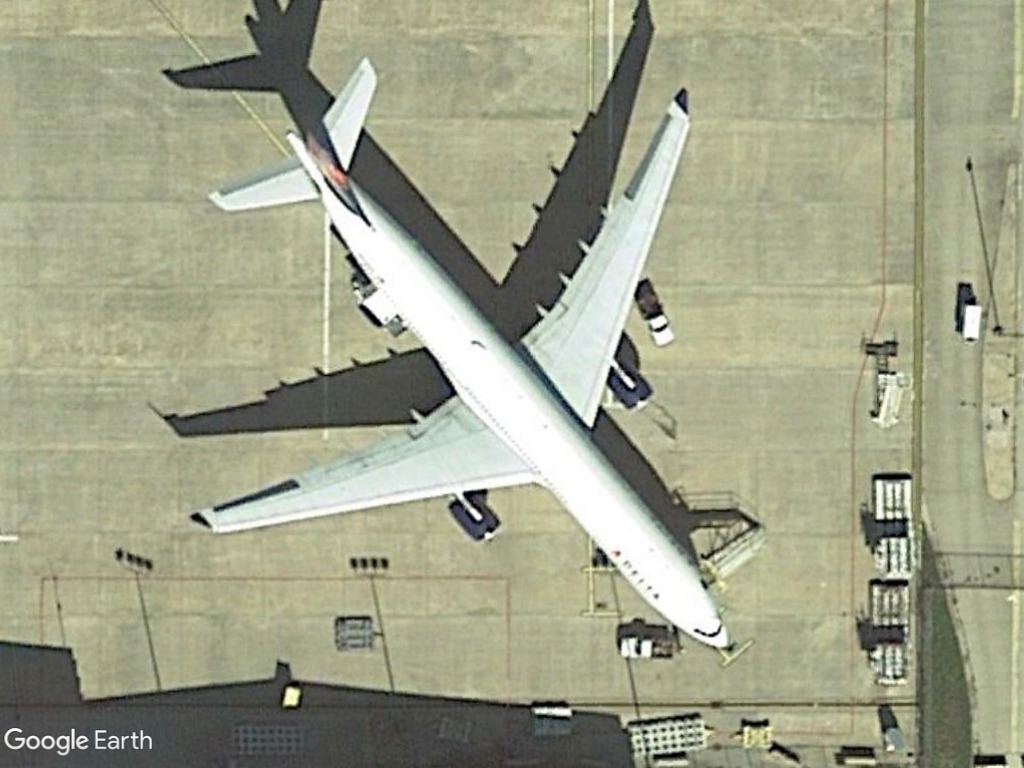airliner: (181, 46, 739, 658)
